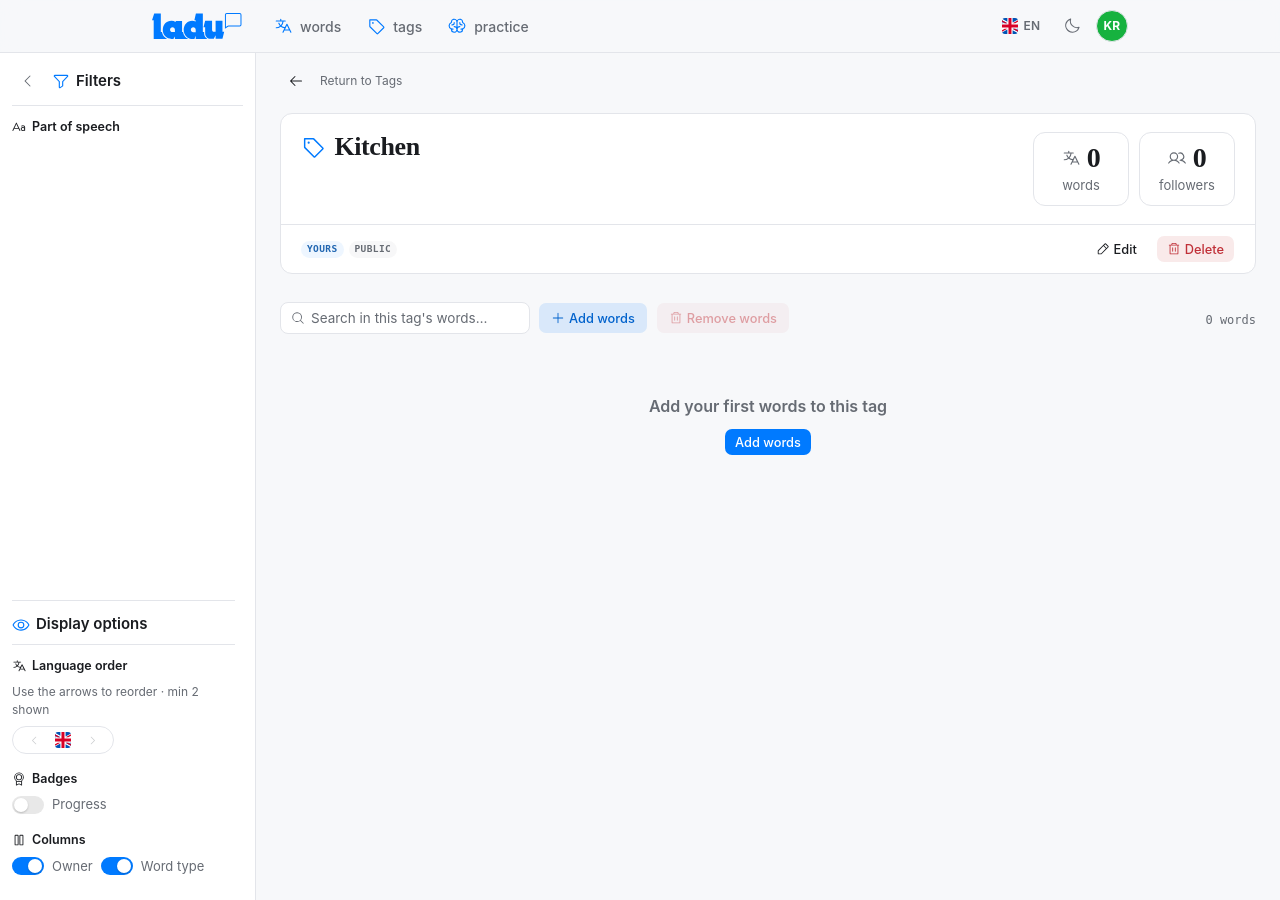
Test: TagViewPage — owned tag › editing the tag updates the header and shows a toast
Expected: the text "Kitchen" is shown, [334,132,420,162]
Click the button "Edit" at (1116, 249), box [1084,235,1148,263]
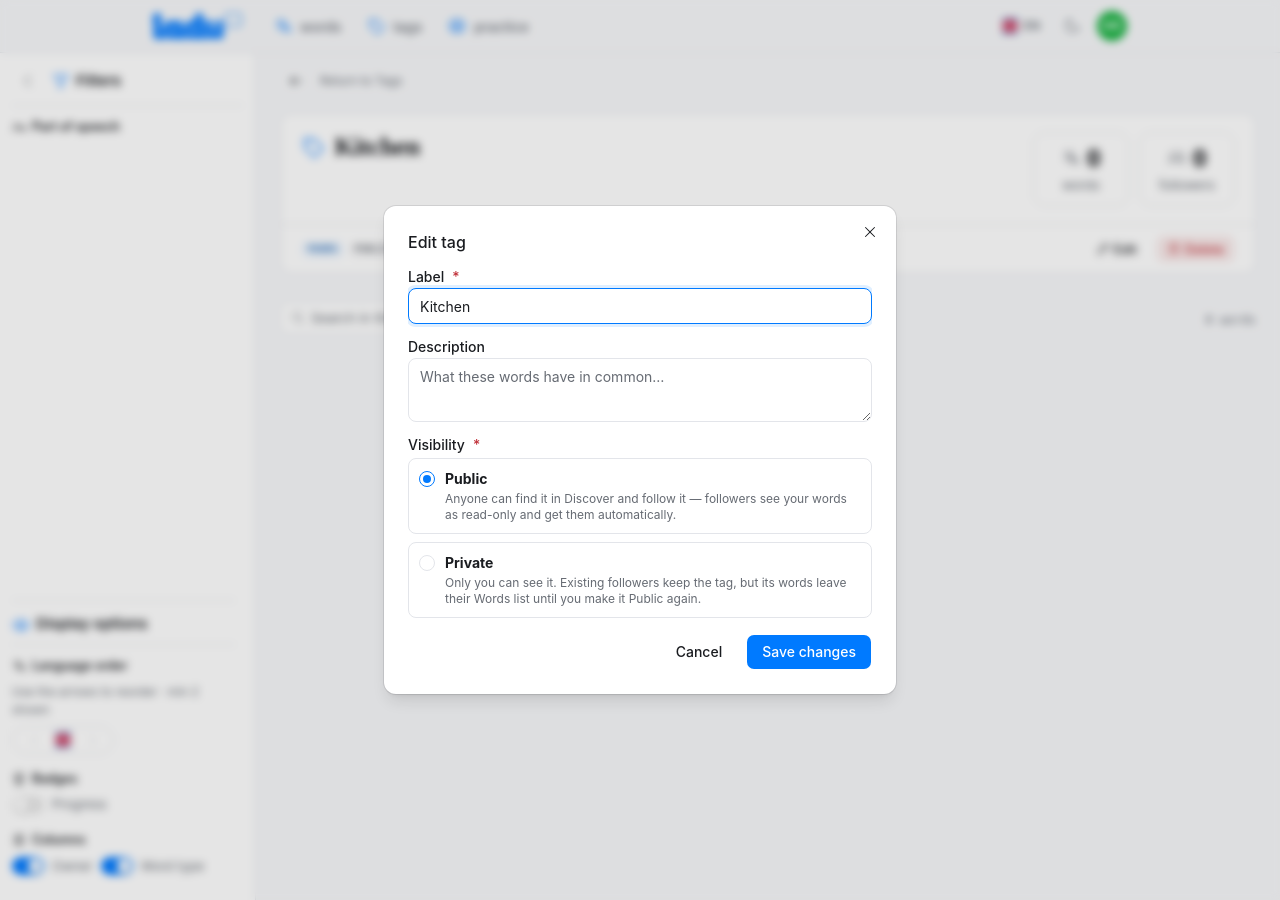
Replace the text in the field labelled "Label *" with "Cooking" at (640, 306), box [408,288,872,324]
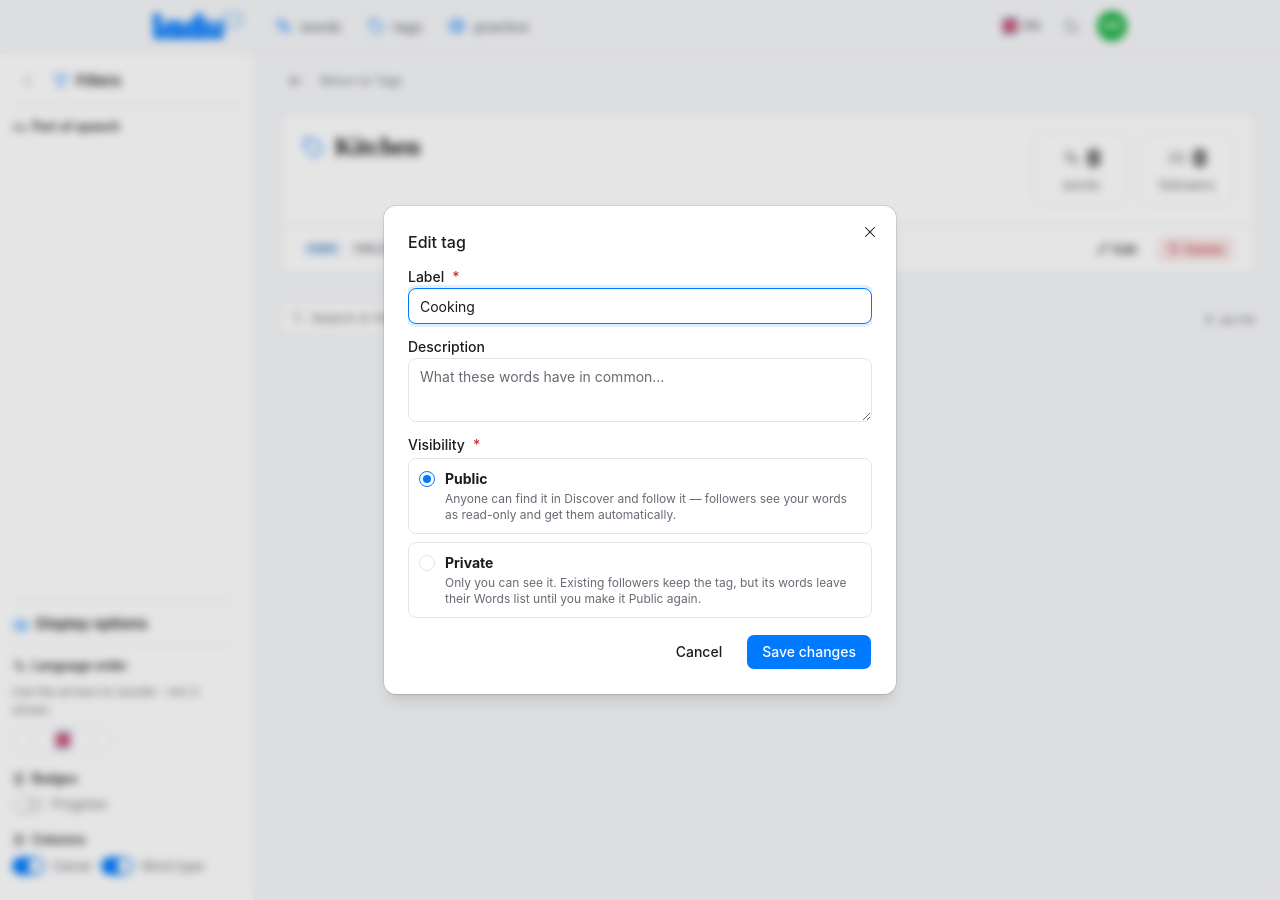
Click the button "Save changes" at (809, 652), box [746,634,872,670]
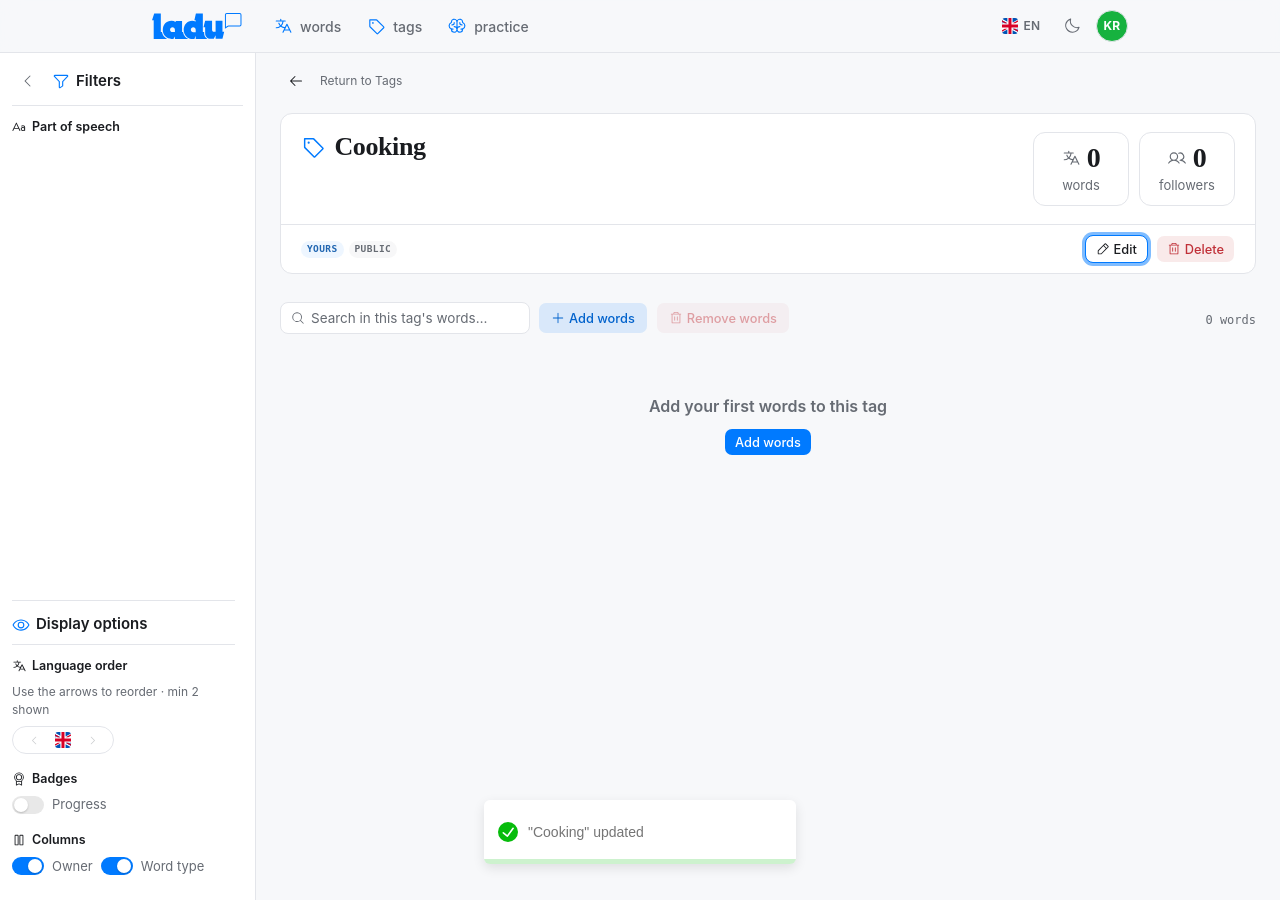
Now the text "\"Cooking\" updated" is shown, box [528,824,644,840]
Now the text "Cooking" is shown, box [334,132,426,162]
